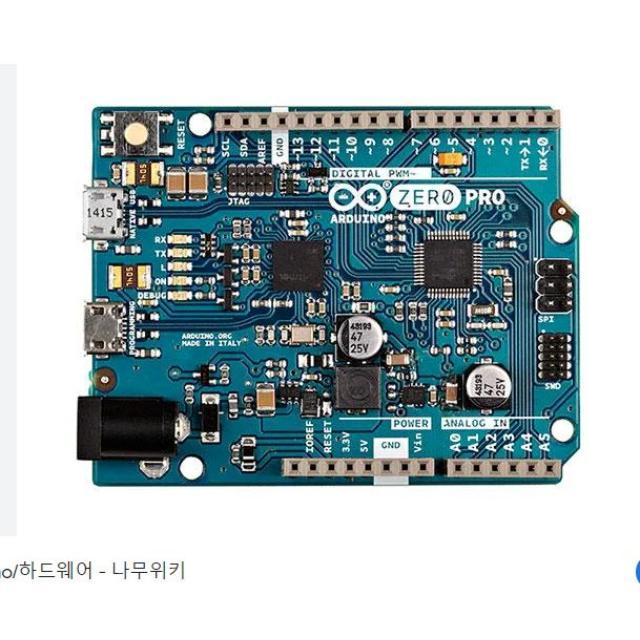Arduino-Zero: (78, 107, 580, 486)
